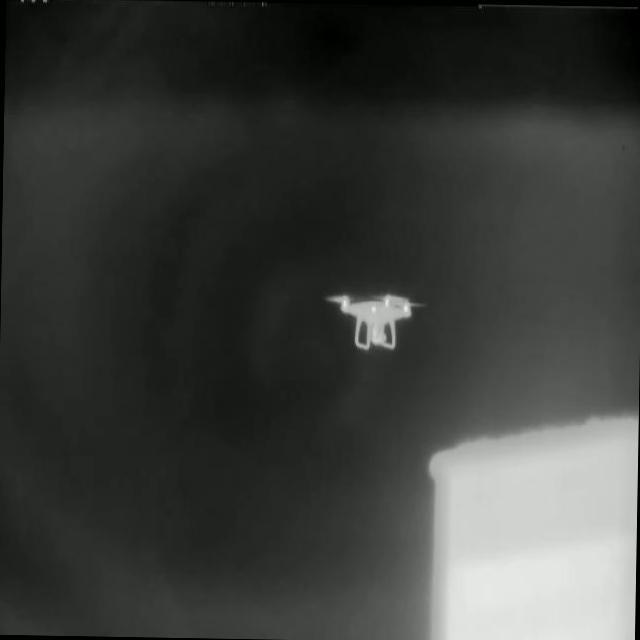DRONE: (325, 288, 427, 352)
